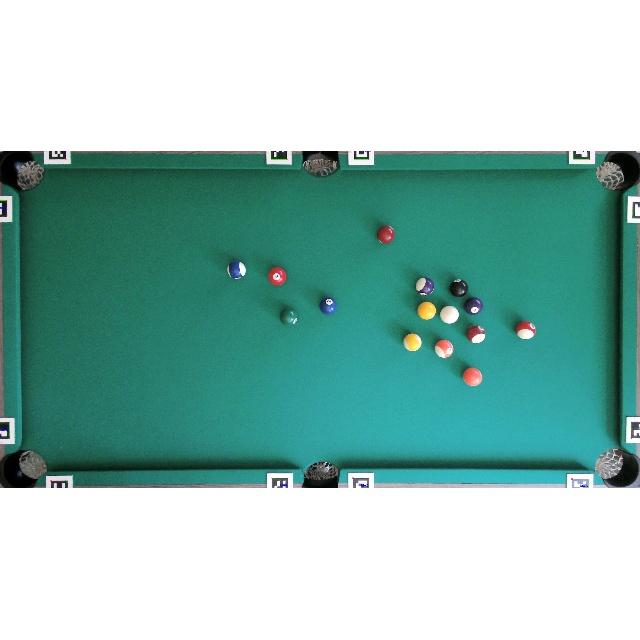cue ball: (440, 306, 459, 324)
other: (462, 367, 483, 387), (515, 321, 536, 340), (227, 260, 246, 280), (466, 325, 486, 344), (268, 266, 287, 286), (434, 339, 454, 358), (417, 301, 437, 320), (280, 307, 298, 326), (464, 297, 483, 315), (450, 279, 469, 297), (403, 333, 422, 351), (377, 225, 395, 244), (416, 277, 434, 296), (320, 297, 337, 314)
